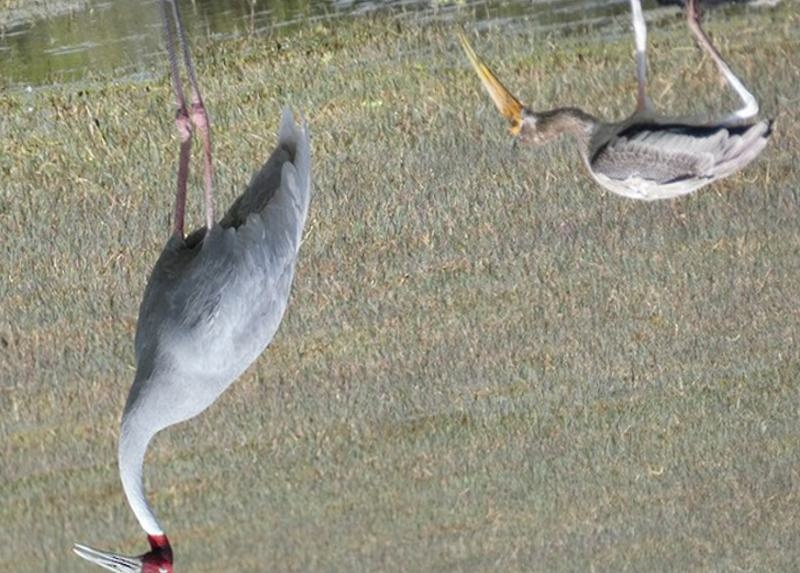crane: (66, 72, 330, 573), (454, 1, 775, 214)
